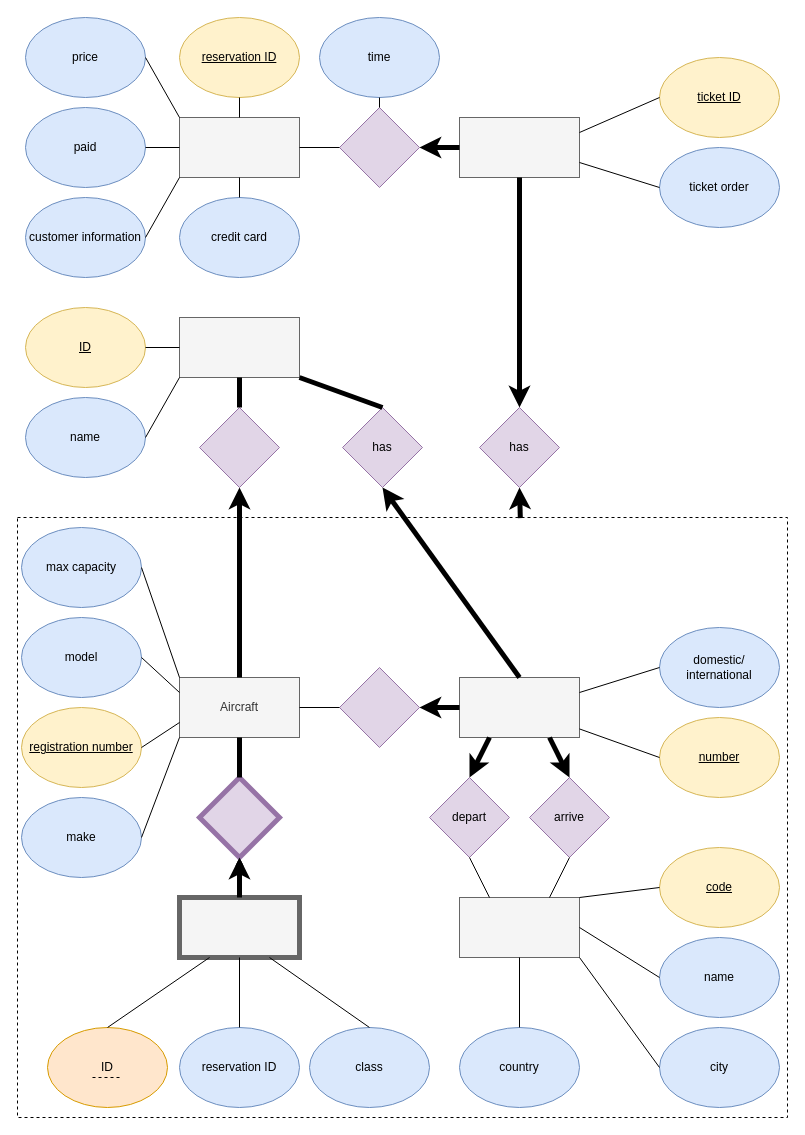
Some shapes in this 805 by 1135 pixel diagram are drawn without their labels. Each missing label, with the centre of its shape:
Airport: the point at 519,927
arrange: the point at 239,817
Company: the point at 239,347
Flight: the point at 519,707
own: the point at 239,447
Reservation: the point at 239,147
reserve: the point at 379,147
Seat: the point at 239,927
Ticket: the point at 519,147
use: the point at 379,707
